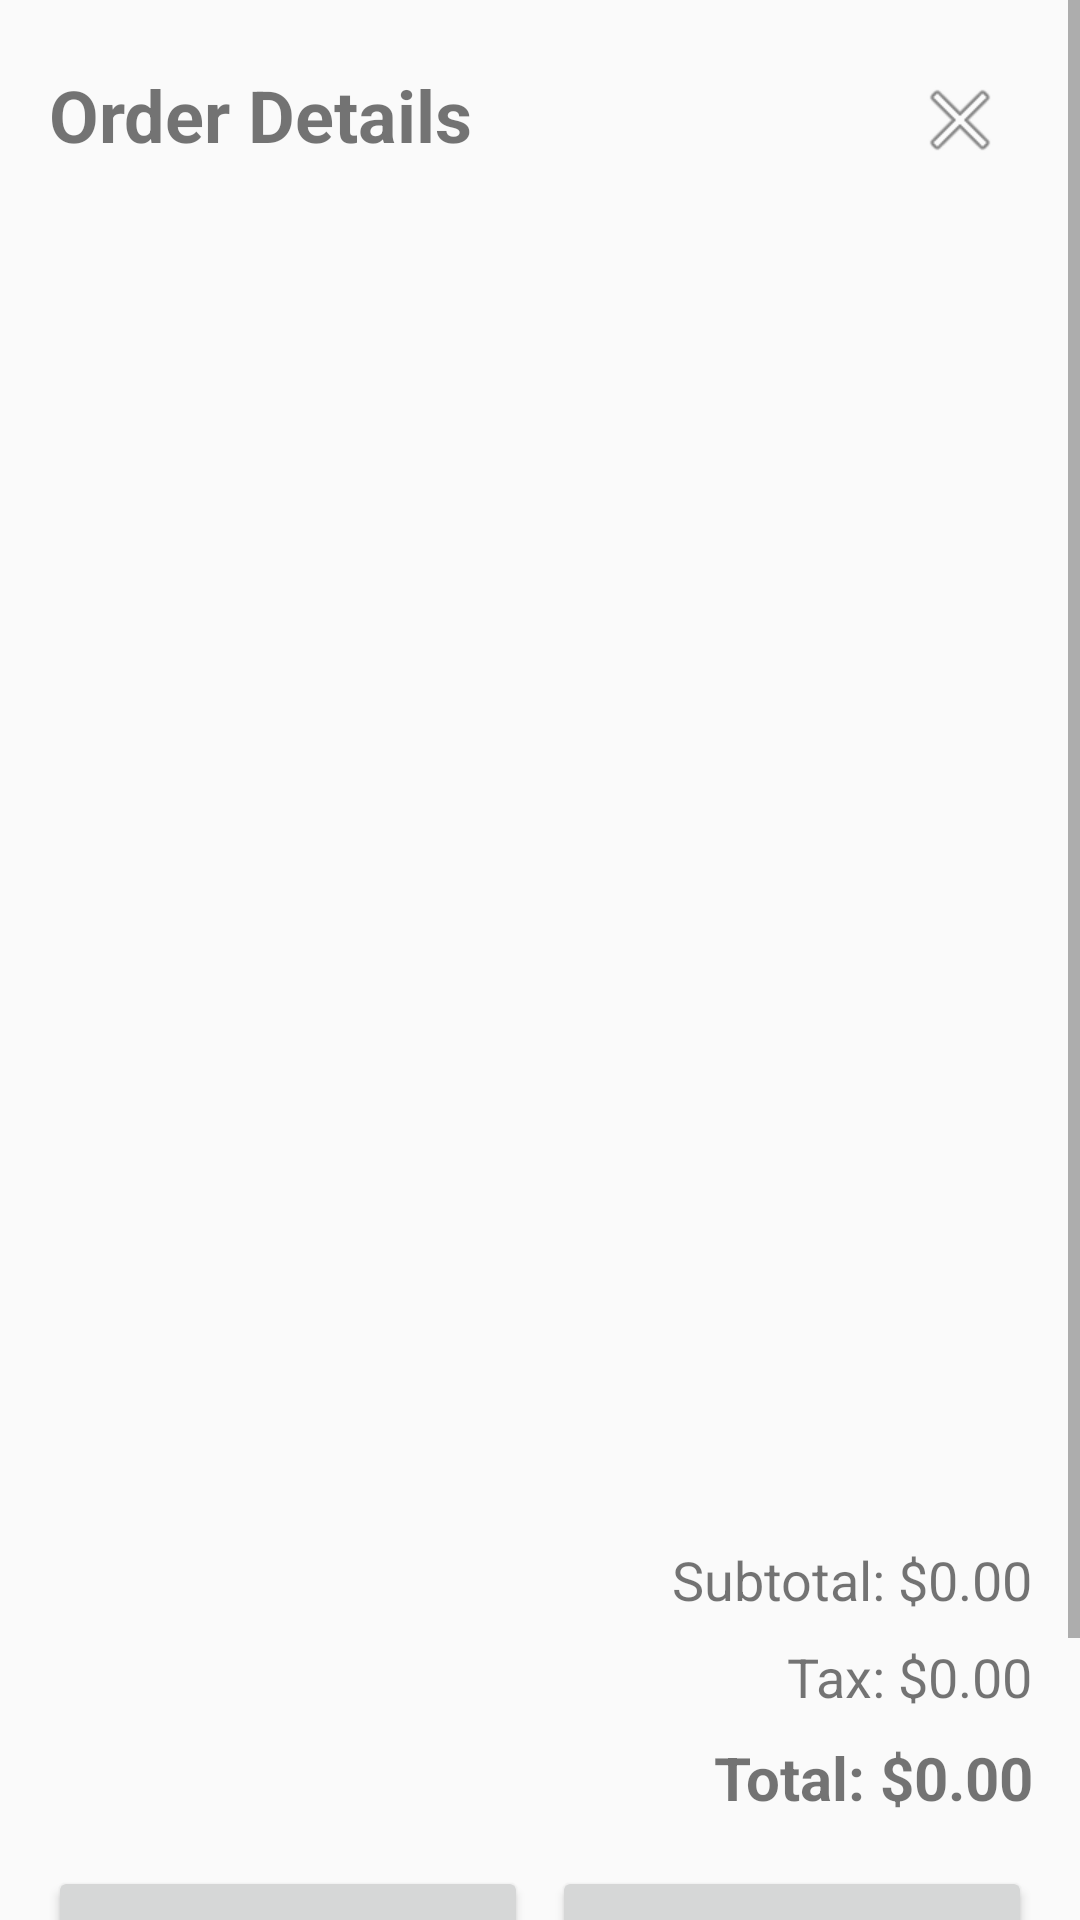

Screen size 1080px×1920px. Icon name, then its box in pixels as (x1,y1,x2,y2):
close clear cancel: (930,90,990,150)
